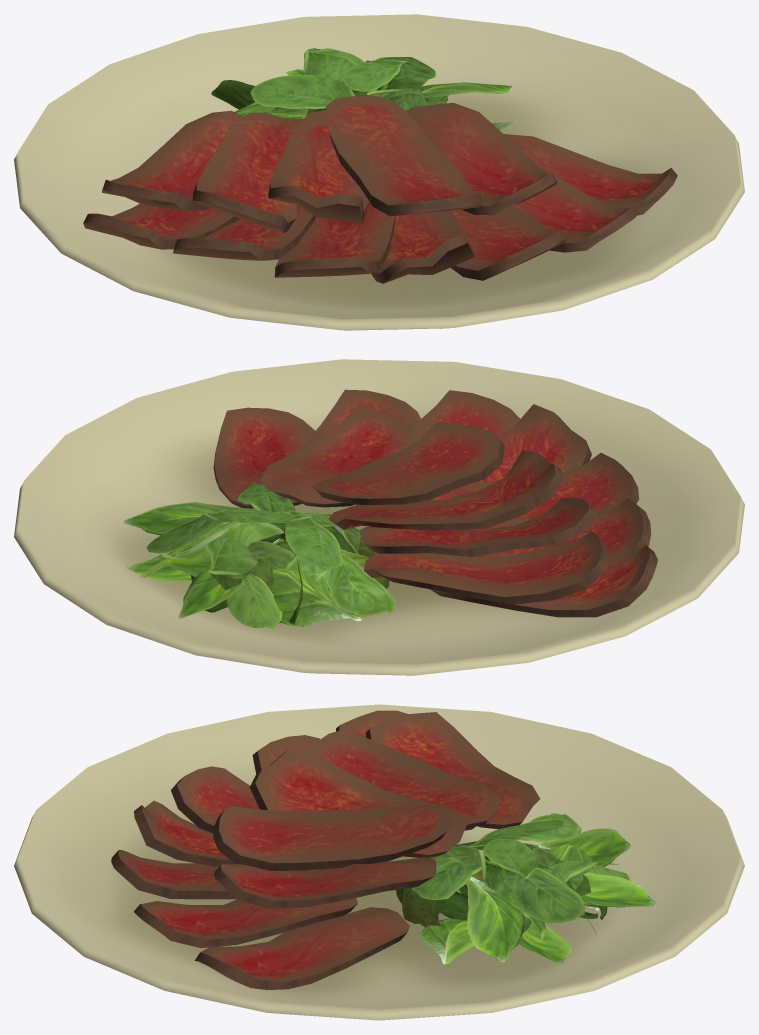
The model's file is BgMD_Roastbeef01.fbx.
3 views of the same model, one above another, from view 1: azimuth 30°, elevation 25°; view 2: azimuth 150°, elevation 25°; view 3: azimuth 270°, elevation 25° (orthographic).
Parts seen in each view (by area): view 1: BgMD_Beef01; view 2: BgMD_Beef01; view 3: BgMD_Beef01.
Boxes of the visible parts, x1,y1,x2,y2 form: BgMD_Beef01: (14, 14, 744, 330); BgMD_Beef01: (14, 359, 744, 675); BgMD_Beef01: (14, 704, 744, 1020).
Bounding box in the file's own units: 0.2 × 0.028 × 0.2.
